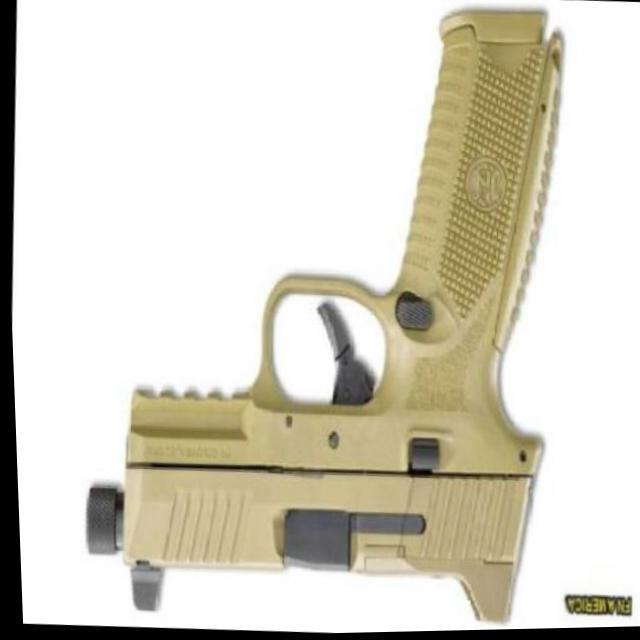weapon: (60, 0, 583, 635)
